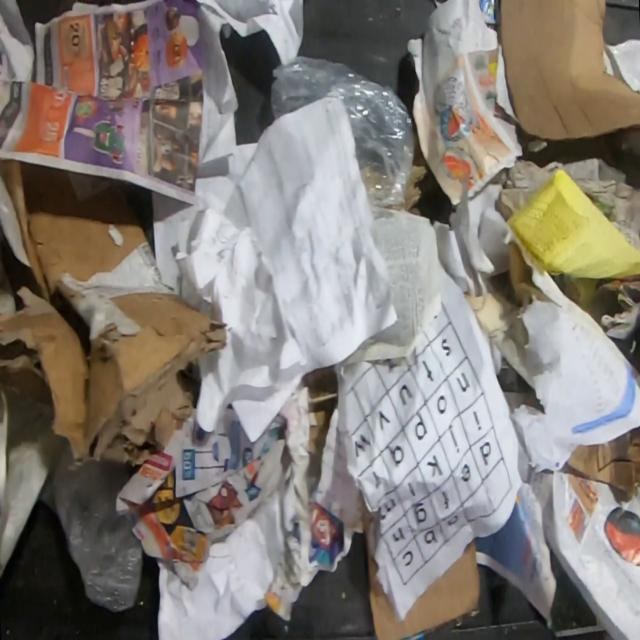cardboard: (0, 157, 228, 470), (499, 0, 640, 142), (365, 537, 480, 640), (567, 424, 640, 496)
soft_plastic: (268, 55, 414, 207), (40, 441, 144, 612)
